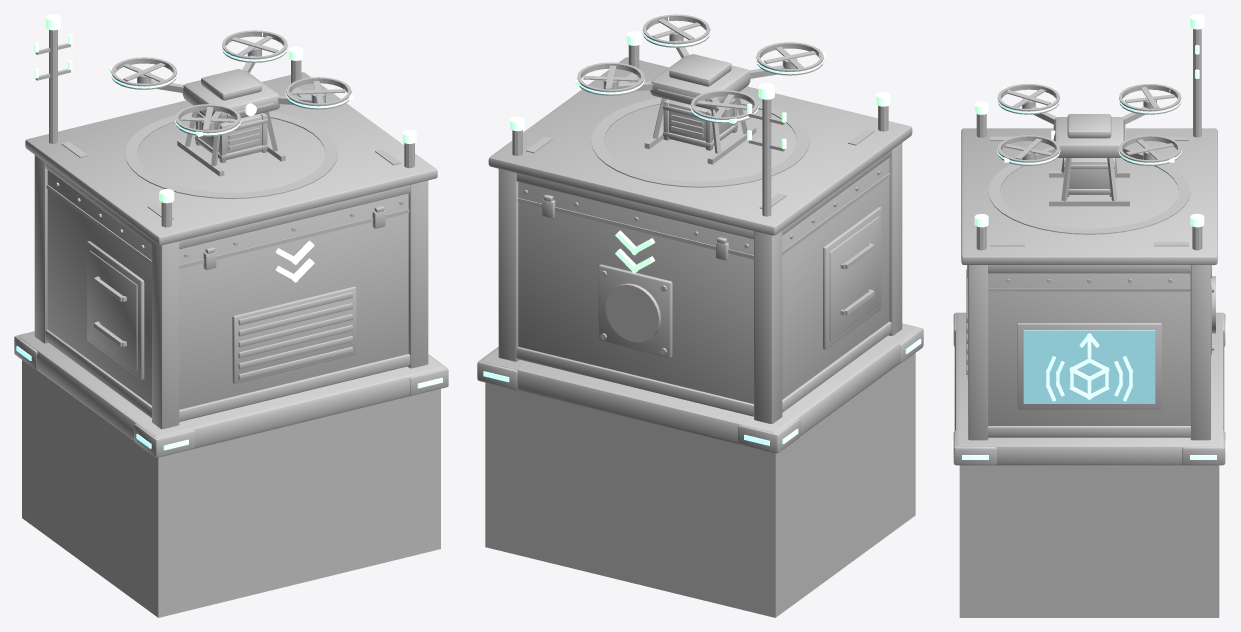
File: SM_DroneInputStation.fbx
3 renders of one model, left to right at view 1: azimuth 30°, elevation 25°; view 2: azimuth 150°, elevation 25°; view 3: azimuth 270°, elevation 25°, orthographic. The views are drawn at different scales.
Parts seen in each view (by area): view 1: SM_DroneInputStation; view 2: SM_DroneInputStation; view 3: SM_DroneInputStation.
Boxes of the visible parts, x1,y1,x2,y2 form: SM_DroneInputStation: (14,14,448,617); SM_DroneInputStation: (477,14,923,617); SM_DroneInputStation: (952,14,1226,617).
Size of what is drawn, in the model's own units: 1.93 by 3.14 by 1.63.
